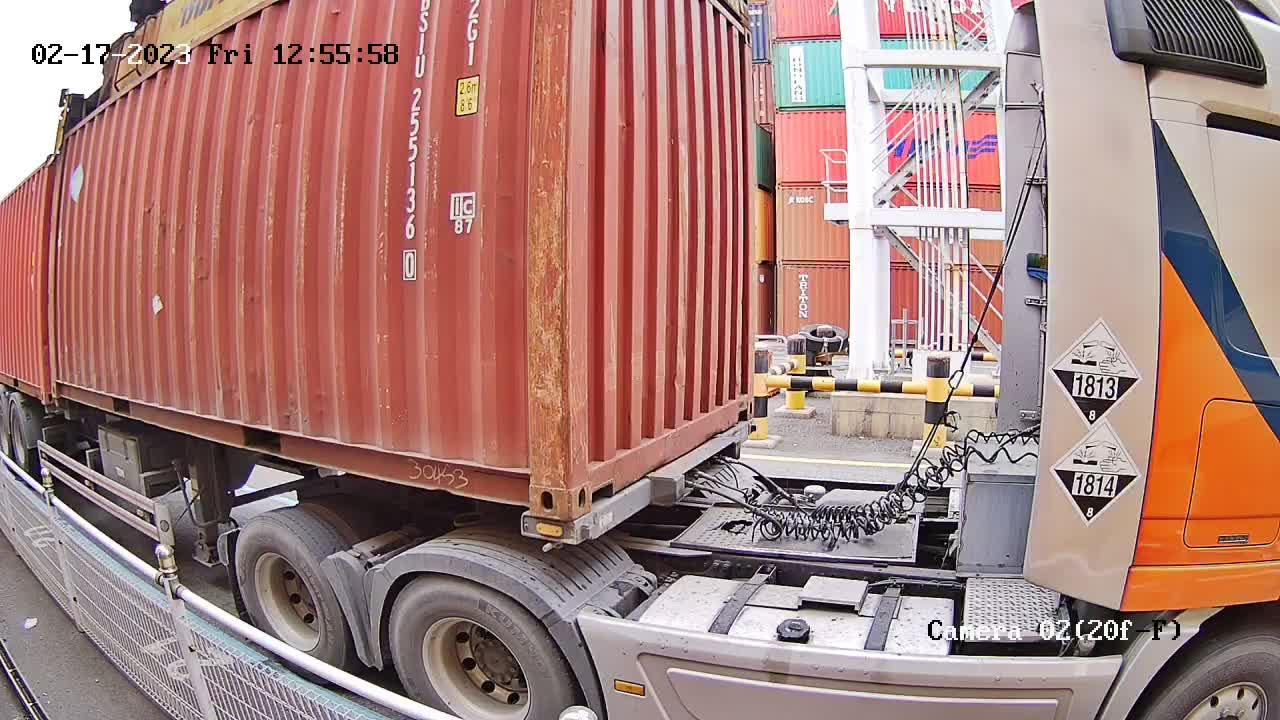Chassis: (525, 418, 753, 548)
Cone: (531, 518, 570, 553)
Hole_L: (571, 427, 619, 522)
Hole_R: (491, 440, 570, 521), (727, 370, 757, 426)
Tire: (388, 575, 565, 719), (235, 515, 344, 663)
